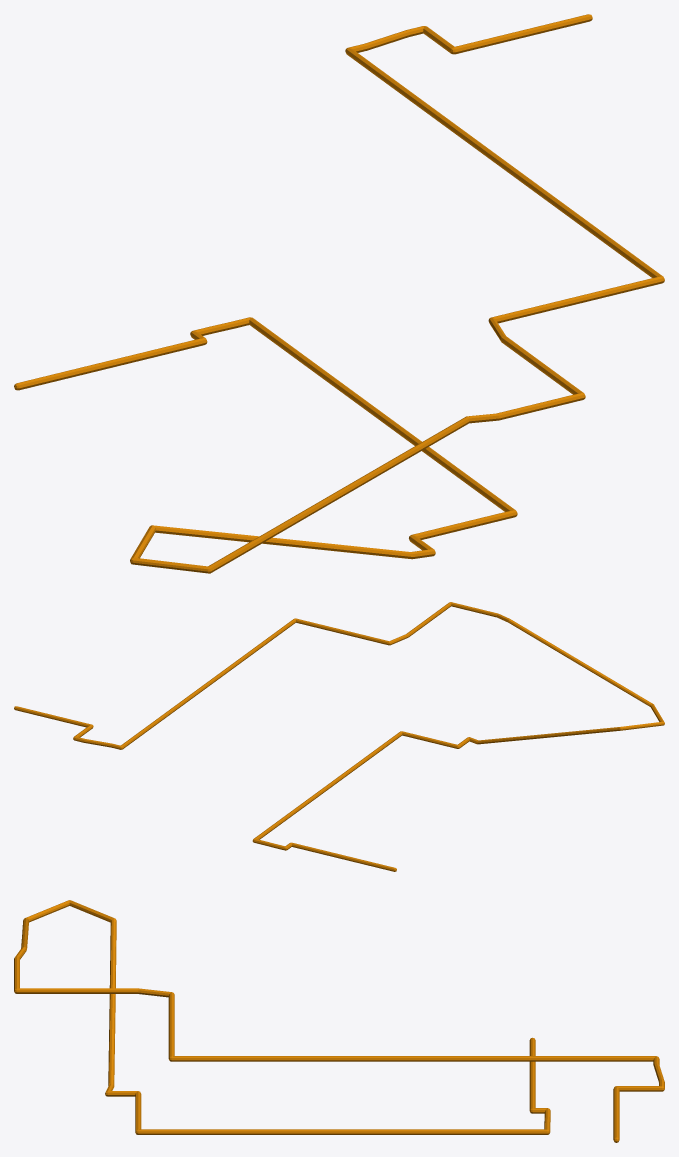
The picture shows the model from 3 angles, top to bottom: view 1: azimuth 30°, elevation 25°; view 2: azimuth 150°, elevation 25°; view 3: azimuth 270°, elevation 25°; orthographic projection. The views are drawn at different scales.
Size of the model in its own units: 2409 by 520 by 2149.
